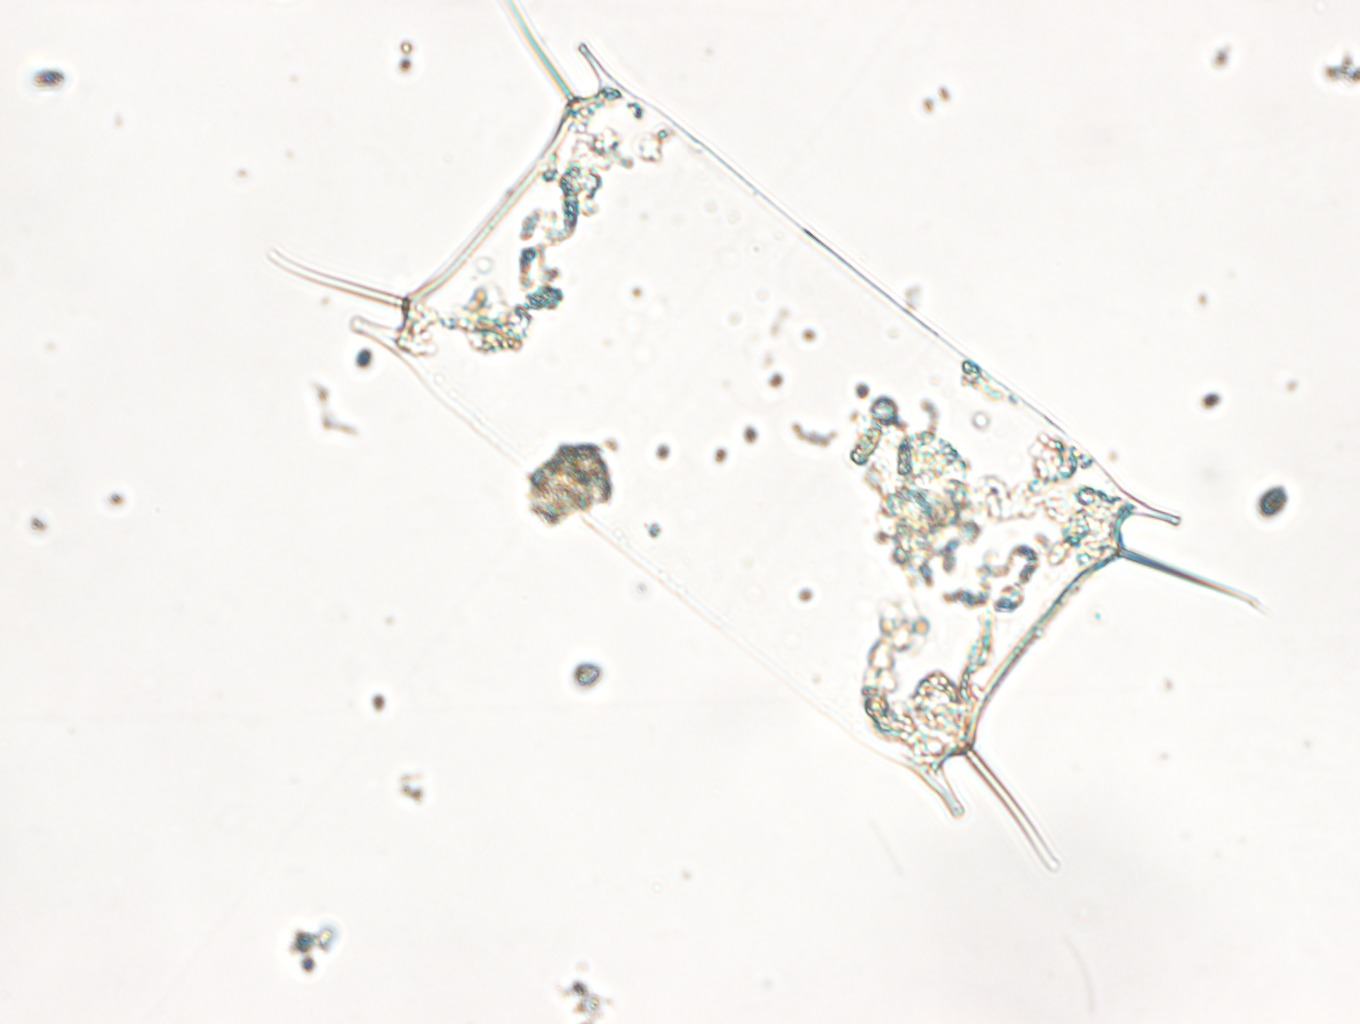biddulphia: (269, 1, 1266, 874)
